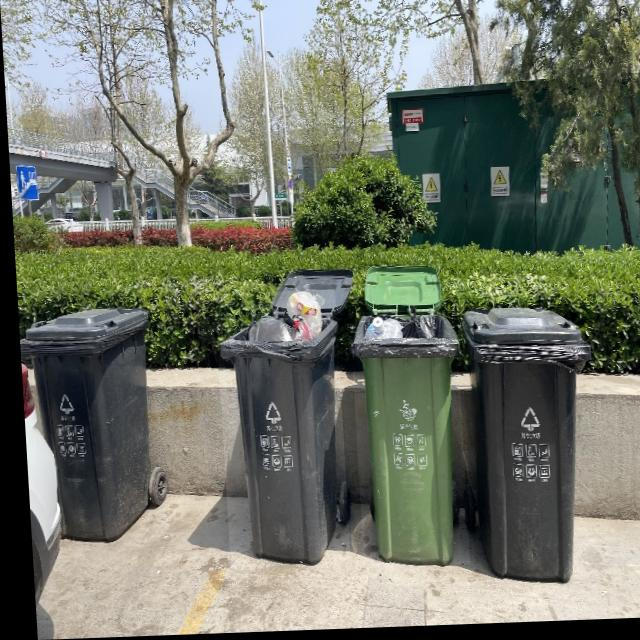garbage_bin: (455, 307, 595, 592)
overflow: (211, 292, 344, 569), (14, 306, 154, 543), (345, 312, 463, 570)
